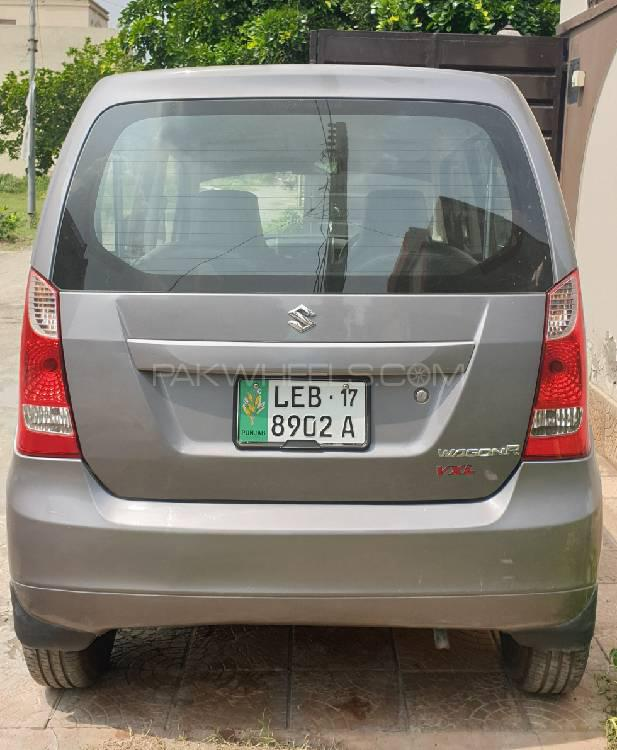license plate: (235, 373, 370, 450)
